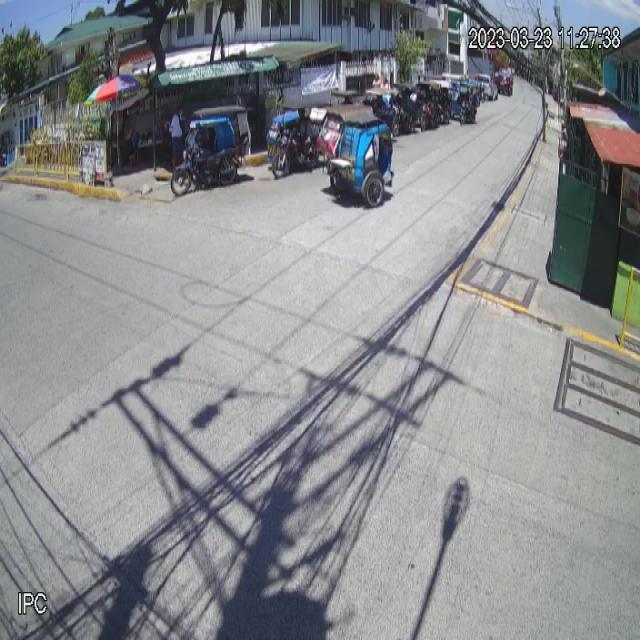Tricycle: (316, 104, 397, 210)
